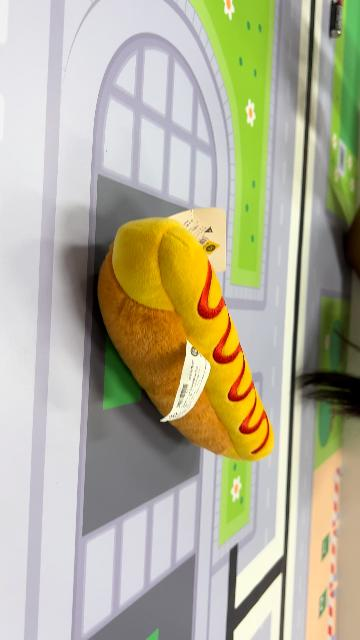hotdog: (97, 216, 277, 464)
